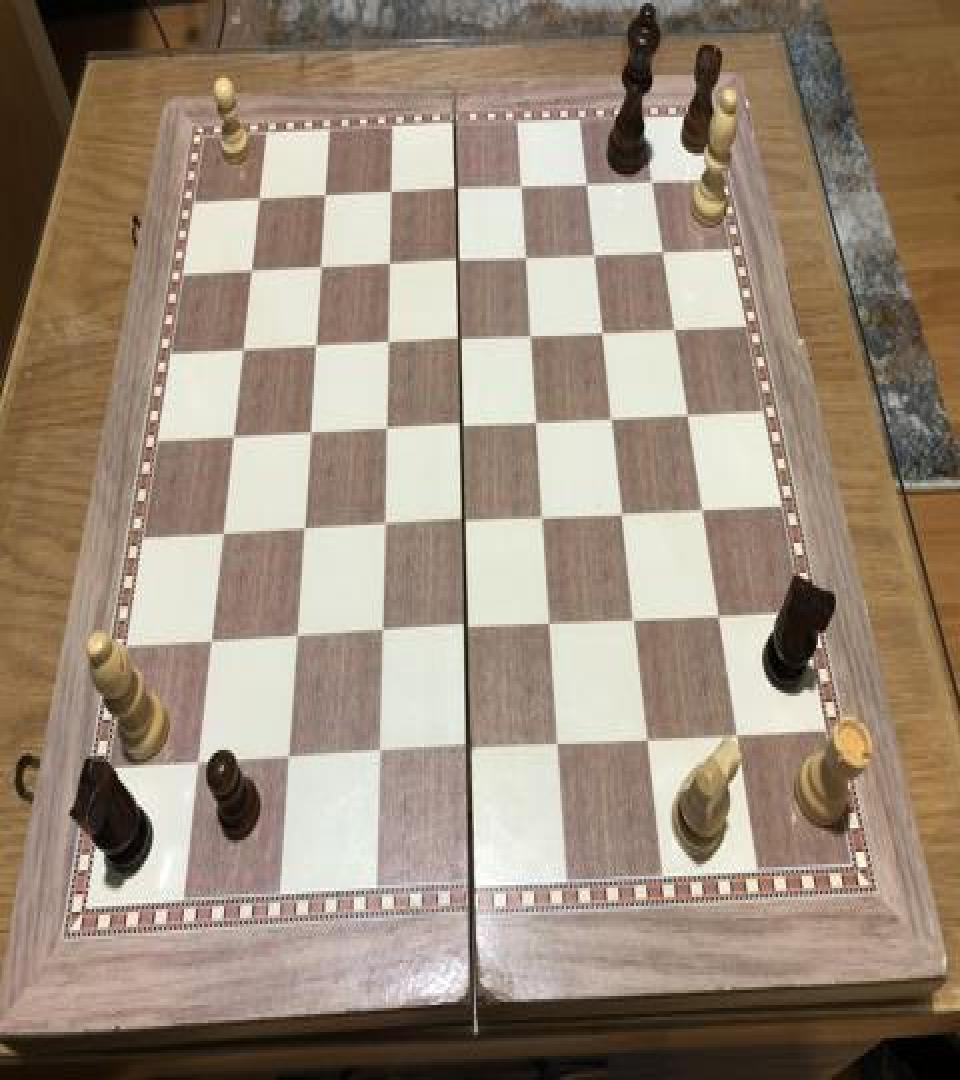xcorner: (638, 727, 662, 764), (645, 170, 669, 206), (580, 171, 604, 207), (514, 174, 538, 210), (448, 176, 472, 212), (381, 177, 405, 213), (315, 180, 339, 216), (248, 182, 272, 218), (656, 240, 680, 276), (587, 242, 611, 278), (518, 244, 542, 280), (449, 248, 473, 284), (380, 249, 404, 285), (310, 252, 334, 288), (239, 254, 263, 290), (667, 316, 691, 352), (595, 320, 619, 356), (523, 322, 547, 358), (450, 326, 474, 362), (304, 332, 328, 368), (230, 333, 254, 369), (680, 402, 704, 438), (604, 406, 628, 442), (528, 410, 552, 446), (375, 416, 399, 452), (298, 418, 322, 454), (220, 422, 244, 458), (694, 498, 718, 534), (614, 501, 638, 537), (534, 504, 558, 540), (454, 508, 478, 544), (373, 512, 397, 548), (291, 516, 315, 552), (209, 519, 233, 555), (710, 603, 734, 639), (625, 608, 649, 644), (541, 612, 565, 648), (456, 615, 480, 651), (370, 620, 394, 656), (283, 624, 307, 660), (196, 628, 220, 664), (727, 722, 751, 758), (548, 732, 572, 768), (458, 736, 482, 772), (366, 741, 390, 777), (275, 746, 299, 782), (182, 752, 206, 788), (377, 329, 401, 364), (452, 413, 476, 448)
